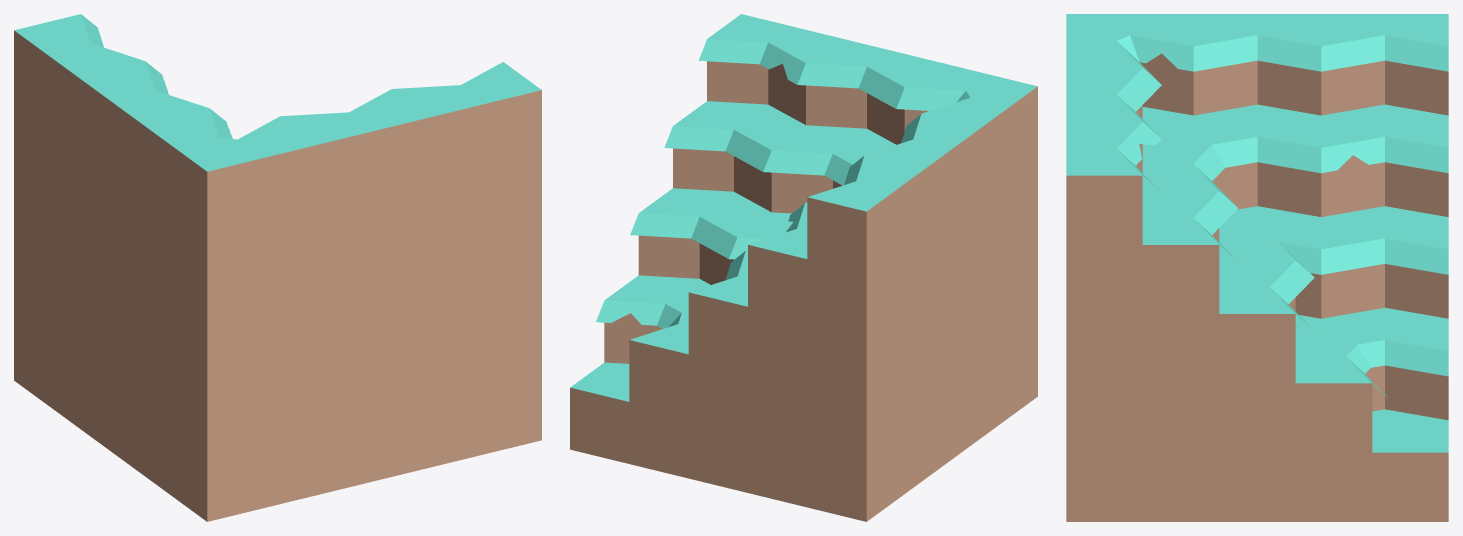
The model's file is cliff_stepsCornerInner_rock.glb.
3 renders of one model, left to right at view 1: azimuth 30°, elevation 25°; view 2: azimuth 150°, elevation 25°; view 3: azimuth 270°, elevation 25°, orthographic. The views are drawn at different scales.
Visible parts, largest first — view 1: cliff_stepsCornerInner_rock; view 2: cliff_stepsCornerInner_rock; view 3: cliff_stepsCornerInner_rock.
Boxes of the visible parts, x1,y1,x2,y2 form: cliff_stepsCornerInner_rock: [14, 14, 541, 521]; cliff_stepsCornerInner_rock: [570, 14, 1037, 521]; cliff_stepsCornerInner_rock: [1066, 14, 1448, 521].
Bounding box in the file's own units: 1 × 1 × 1.
